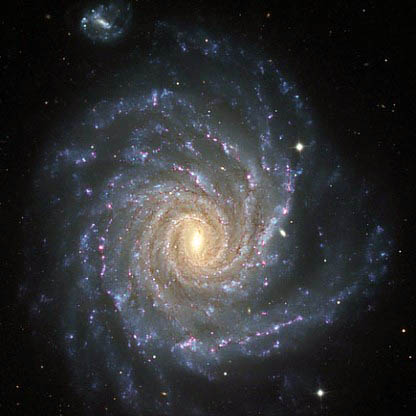NGC 1232: (20, 1, 395, 411)
